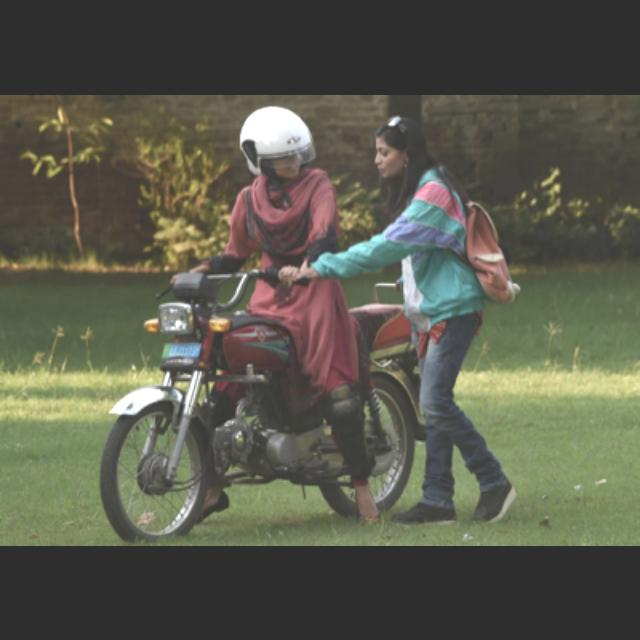With Helmet: (242, 102, 312, 174)
